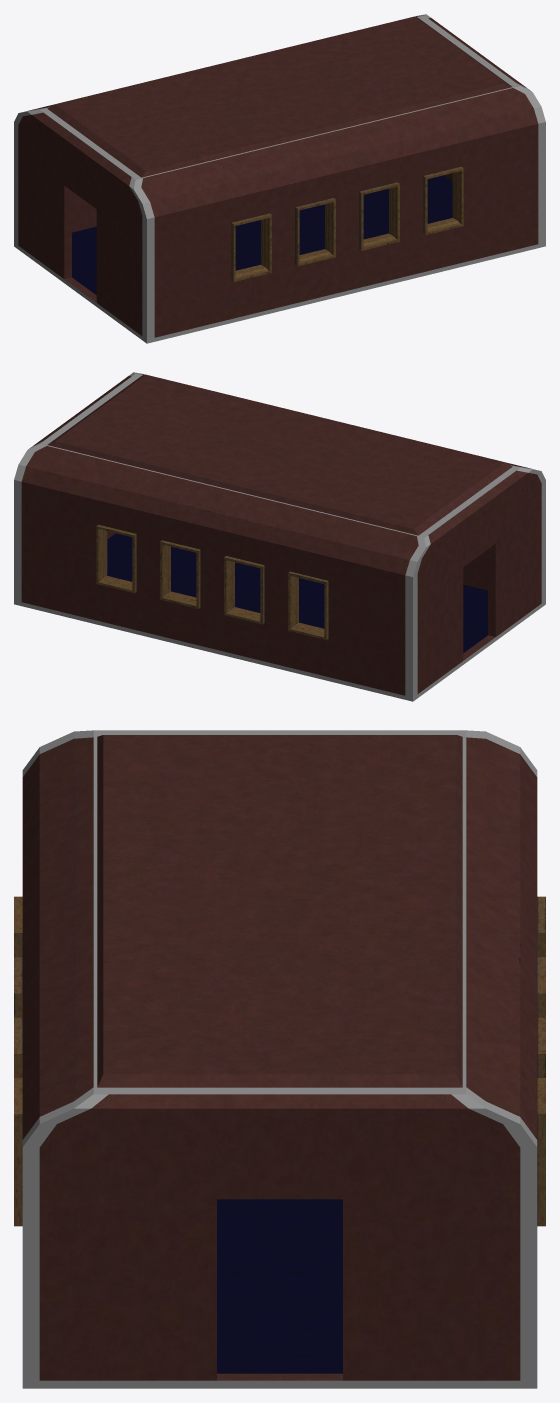
File: train_inner.fbx
3 views of the same model, one above another, from view 1: azimuth 30°, elevation 25°; view 2: azimuth 150°, elevation 25°; view 3: azimuth 270°, elevation 25° (orthographic). The views are drawn at different scales.
Visible parts, largest first — view 1: Plane.001; view 2: Plane.001; view 3: Plane.001.
Boxes of the visible parts, box(x1,y1,x2,y2) form: Plane.001: box(14, 14, 545, 343); Plane.001: box(14, 372, 545, 701); Plane.001: box(14, 730, 545, 1388).
Bounding box in the file's own units: 1040 × 380 × 620.
Materials: 4 (3 with a texture image).
